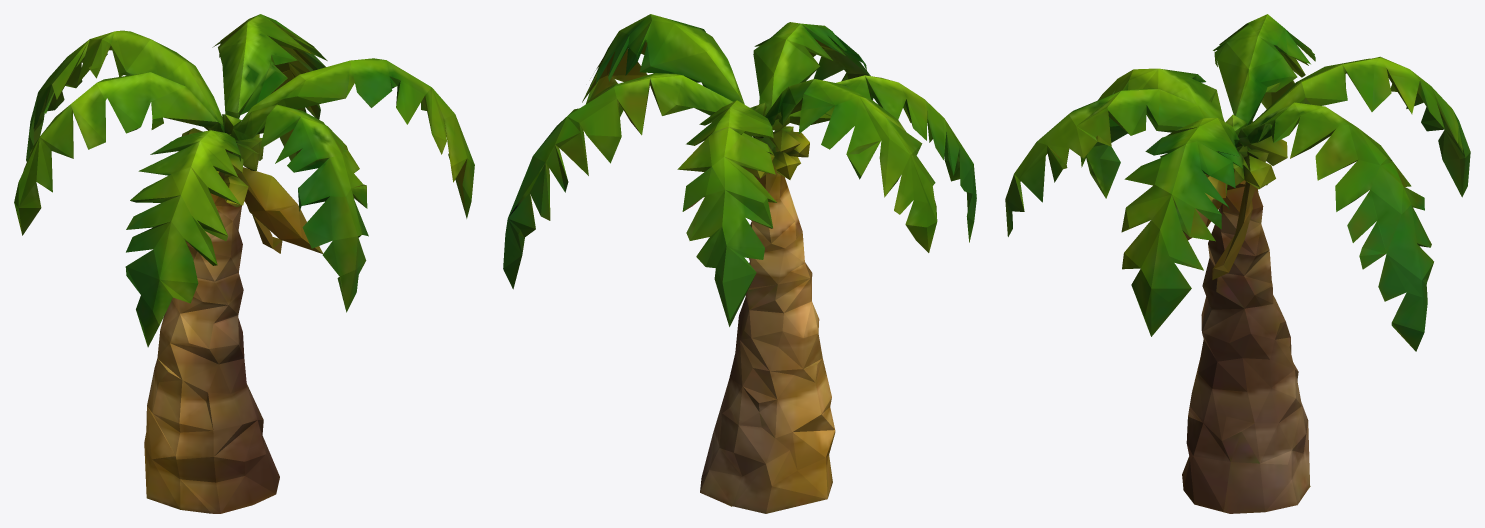
The model's file is palm-c.tex.glb.
3 views of the same model, side by side, from view 1: azimuth 30°, elevation 25°; view 2: azimuth 150°, elevation 25°; view 3: azimuth 270°, elevation 25° (orthographic).
Parts seen in each view (by area): view 1: palm-c; view 2: palm-c; view 3: palm-c.
Boxes of the visible parts, left/top/right/bottom form: palm-c: left=14, top=14, right=474, bottom=513; palm-c: left=503, top=14, right=976, bottom=513; palm-c: left=1005, top=14, right=1470, bottom=513.
Size of the model in its own units: 3.36 by 3.4 by 3.39.
1 material, 1 textured.
